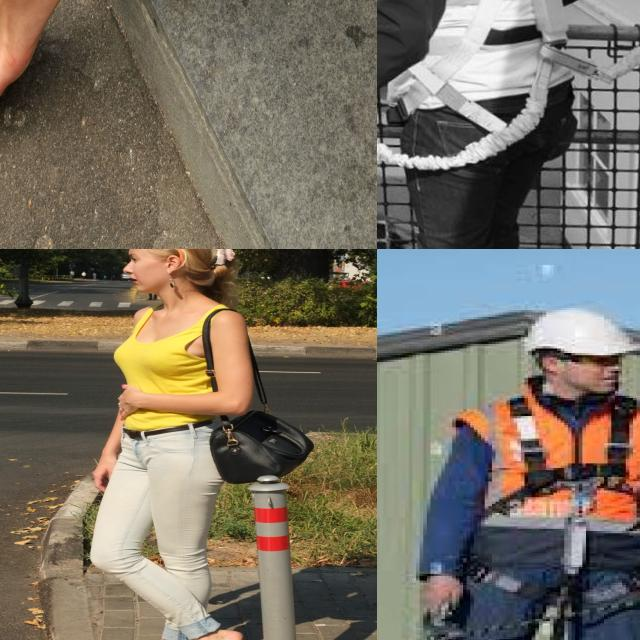Barefoots: (0, 0, 127, 112)
Harness: (451, 391, 640, 640), (499, 0, 640, 155)
